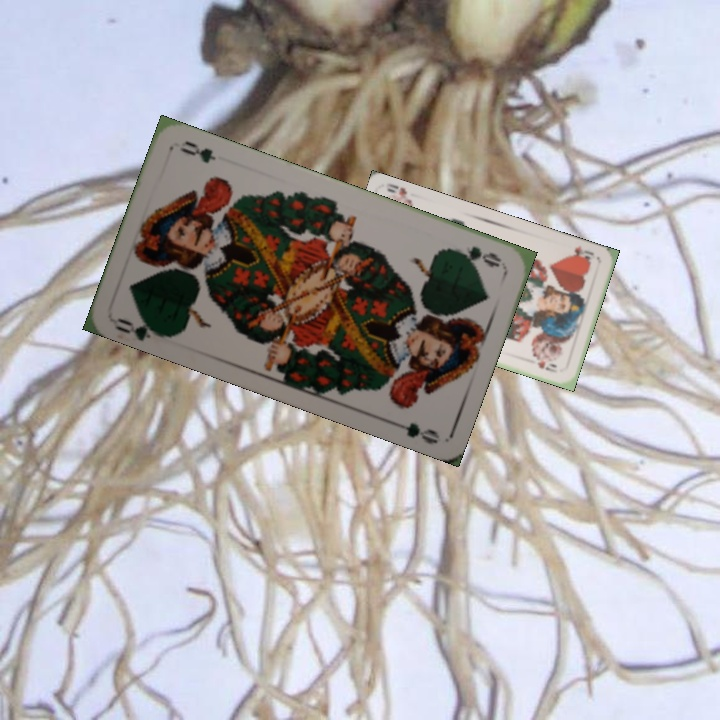GO: (110, 313, 170, 343), (447, 242, 504, 270)
HO: (564, 242, 597, 265)
